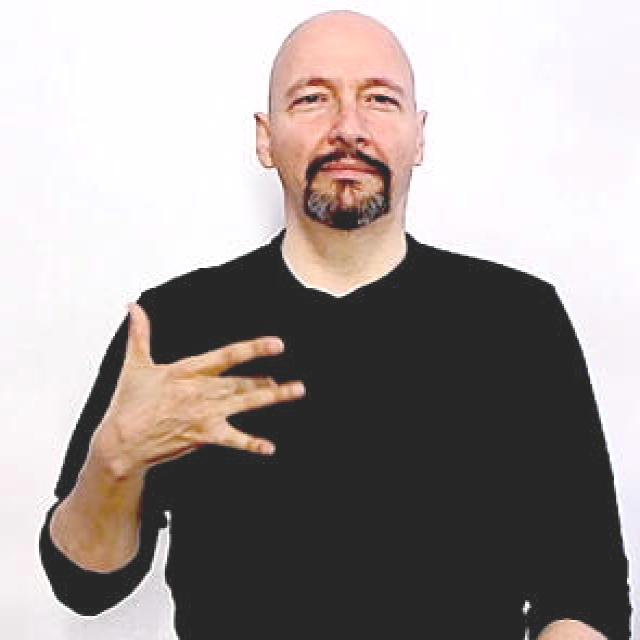feel: (98, 297, 314, 470)
